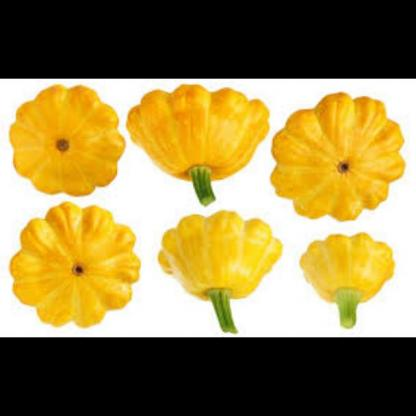squash-patisson: (267, 94, 405, 228), (124, 84, 272, 207), (10, 202, 145, 330), (157, 207, 288, 328), (5, 86, 124, 198), (292, 225, 400, 329)
